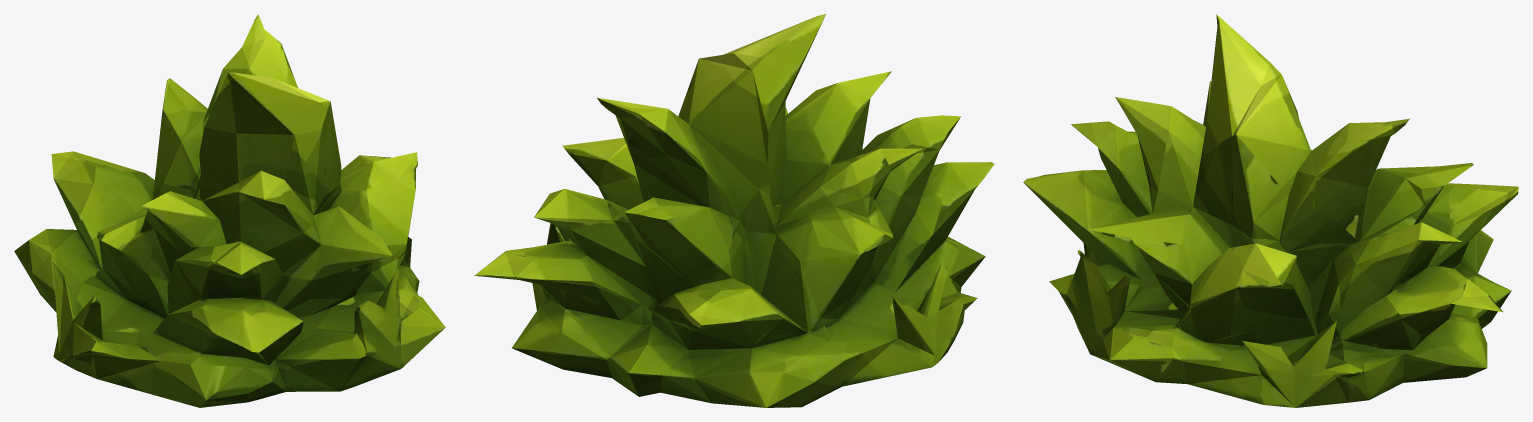
The model's file is KeepSakeGrass.glb.
3 views of the same model, side by side, from view 1: azimuth 30°, elevation 25°; view 2: azimuth 150°, elevation 25°; view 3: azimuth 270°, elevation 25° (orthographic). The views are drawn at different scales.
Visible parts, largest first — view 1: tripo_node_c8f41d8f-a73d-45c5-a3d4-0a9a63b0bb45; view 2: tripo_node_c8f41d8f-a73d-45c5-a3d4-0a9a63b0bb45; view 3: tripo_node_c8f41d8f-a73d-45c5-a3d4-0a9a63b0bb45.
Boxes of the visible parts, <box> form: tripo_node_c8f41d8f-a73d-45c5-a3d4-0a9a63b0bb45: <box>14,14,445,407</box>; tripo_node_c8f41d8f-a73d-45c5-a3d4-0a9a63b0bb45: <box>474,14,994,407</box>; tripo_node_c8f41d8f-a73d-45c5-a3d4-0a9a63b0bb45: <box>1023,14,1518,407</box>.
Bounding box in the file's own units: 0.8147 × 0.5997 × 0.9423.
Materials: 1 (1 with a texture image).
